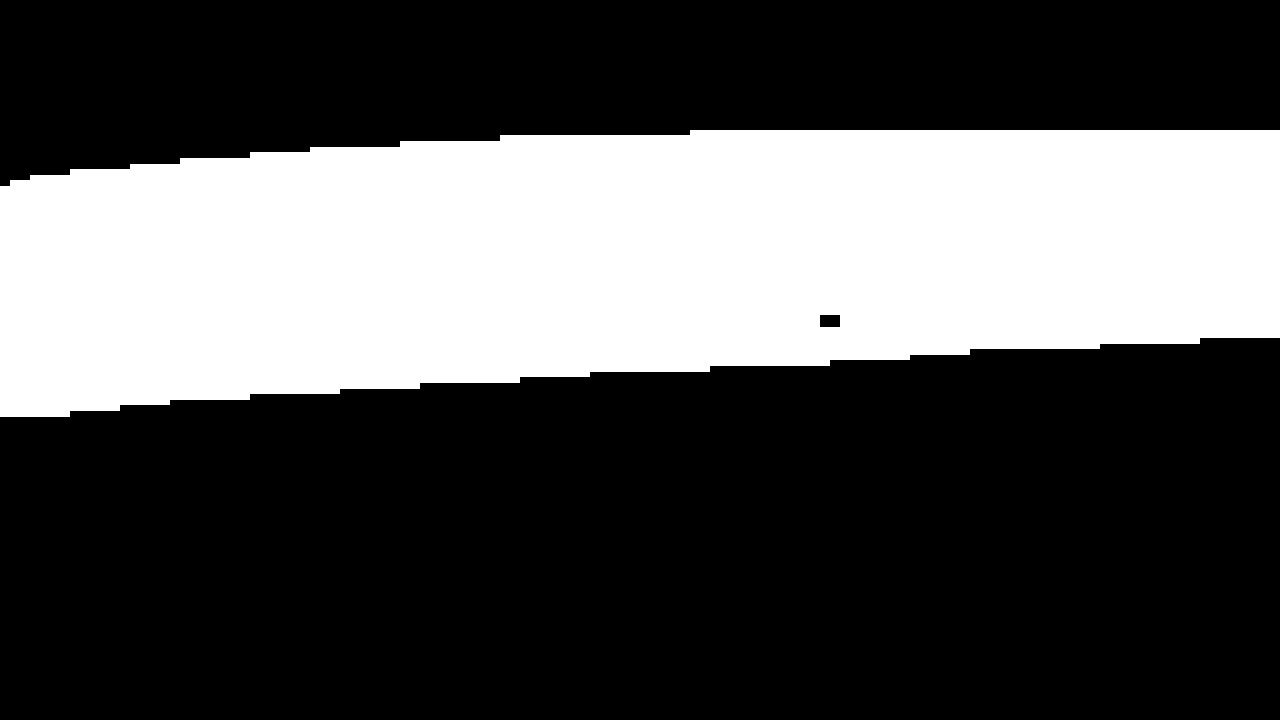Turbine: (14, 90, 1243, 444)
